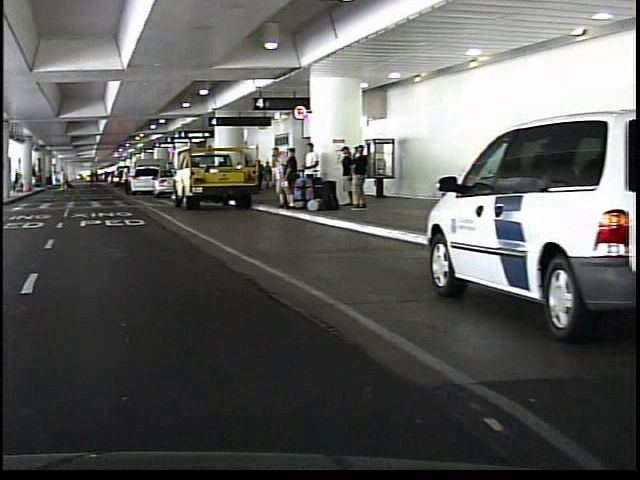person: (348, 144, 365, 213), (265, 145, 284, 206), (53, 162, 68, 196), (116, 166, 127, 197)
